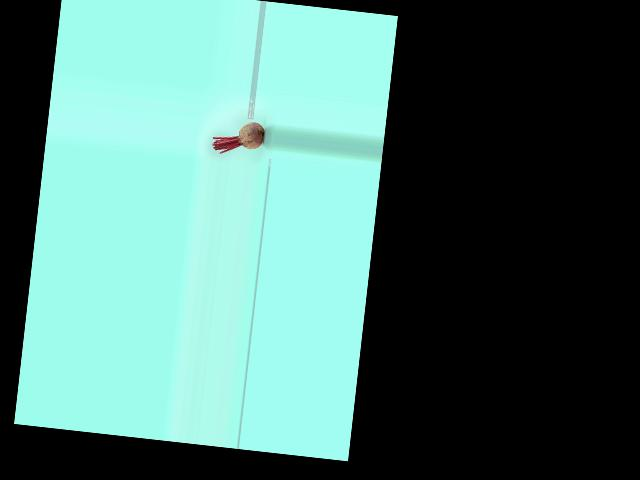beet: (212, 117, 265, 157)
